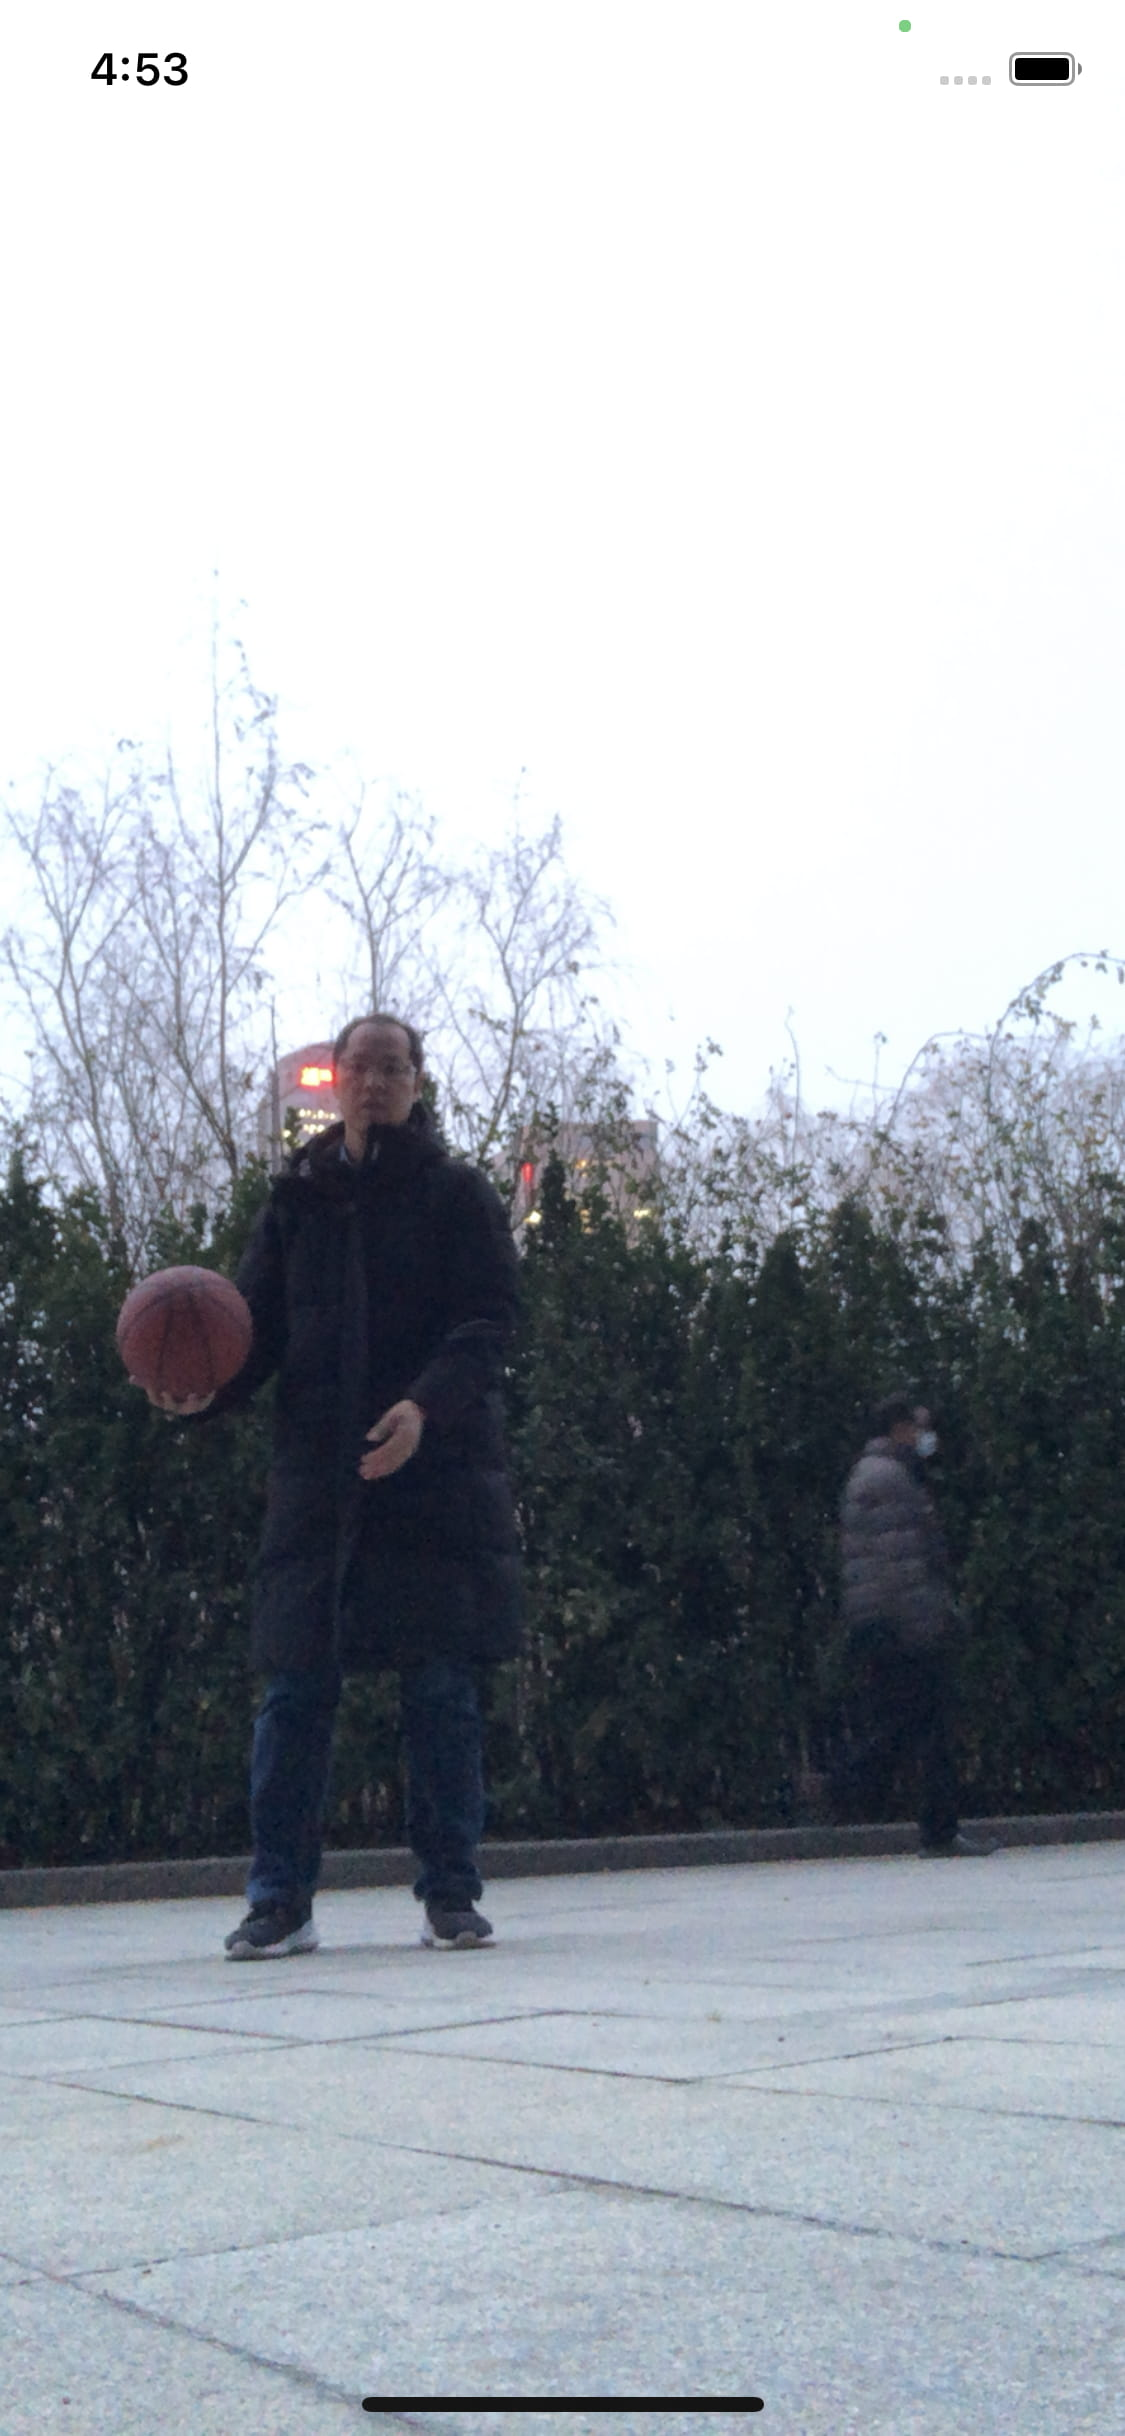ball: (120, 1265, 256, 1409)
